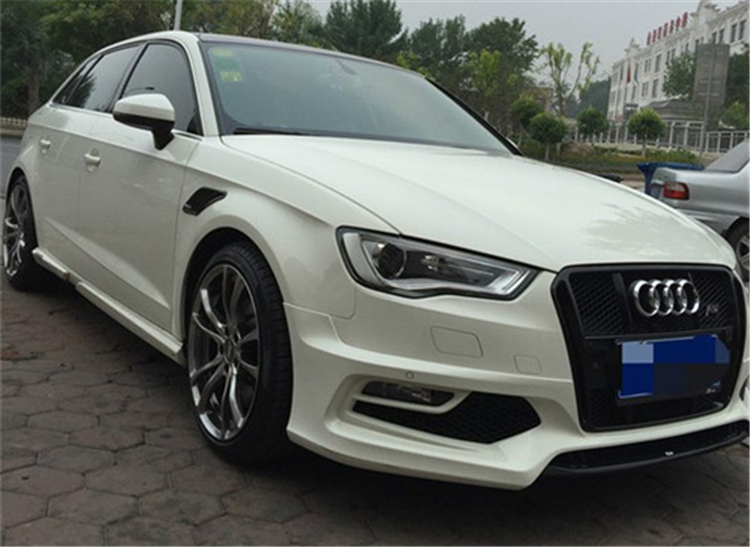audi: (627, 271, 705, 325)
